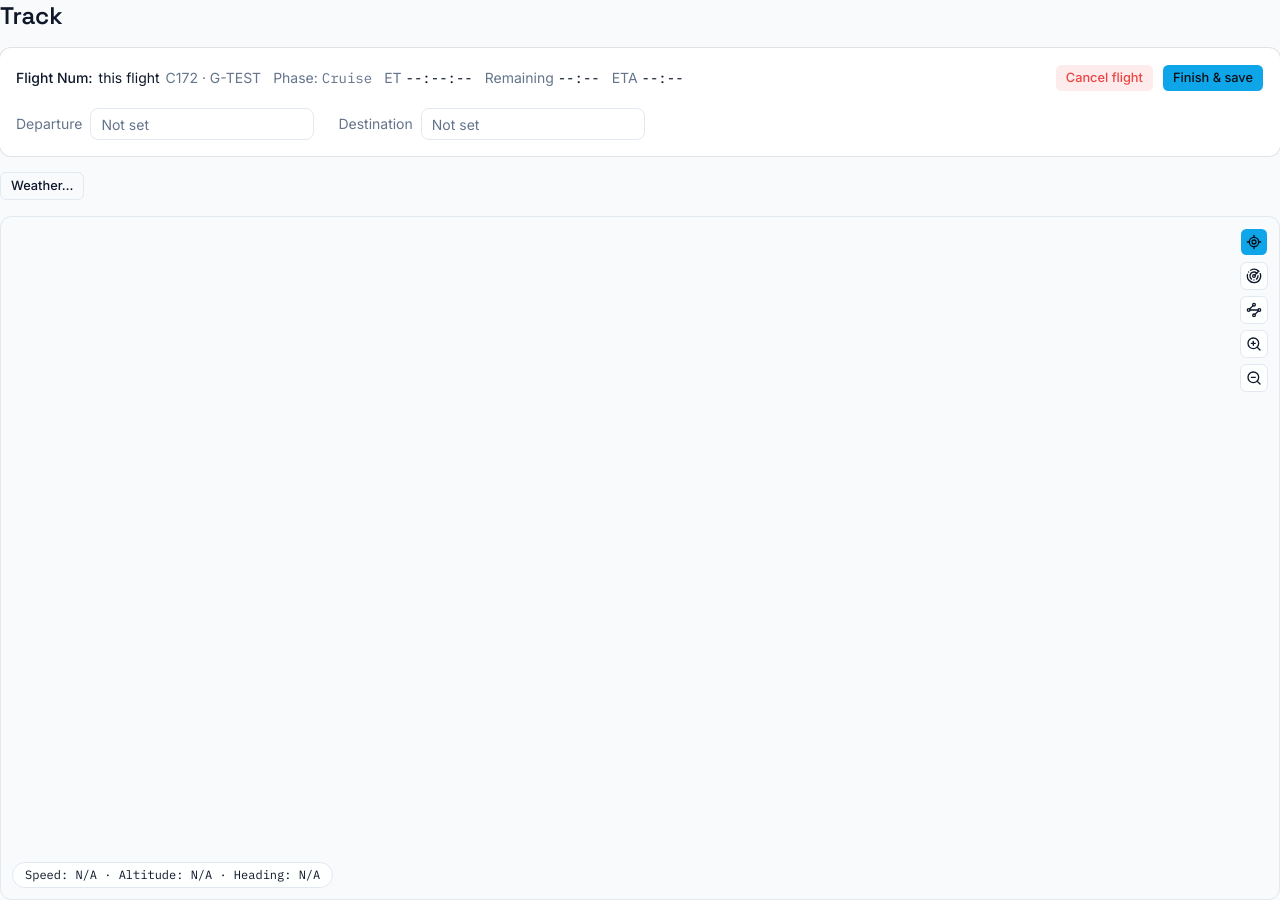
Scenario: TrackView › free-flight destination while tracking (v1.1.1) › offers the Weather dialog (Custom still usable) even before any airport is known
Click the button "Weather…": (42, 186) [0,172,84,200]
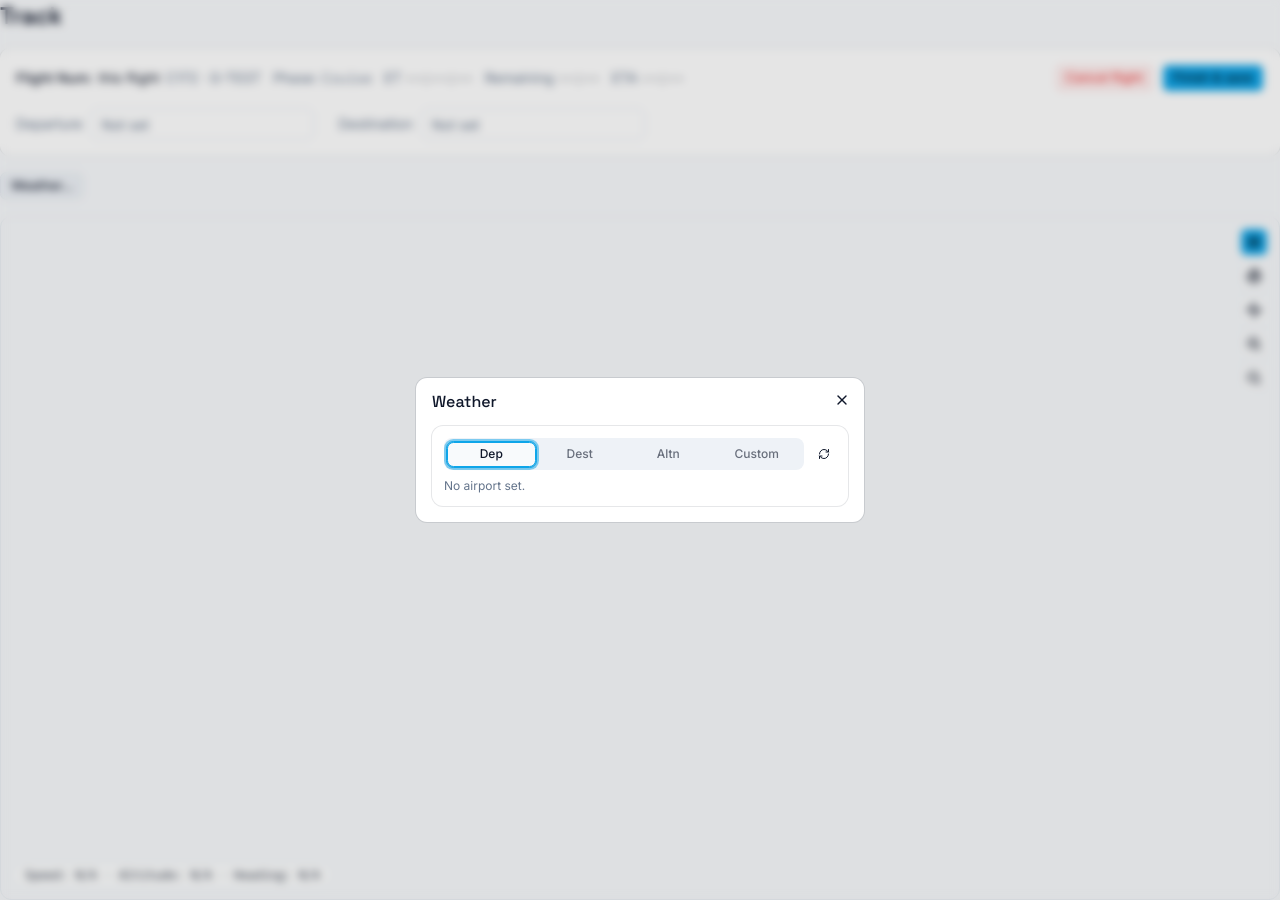
Now the tab "Custom" is shown, box [712,442,801,466]
